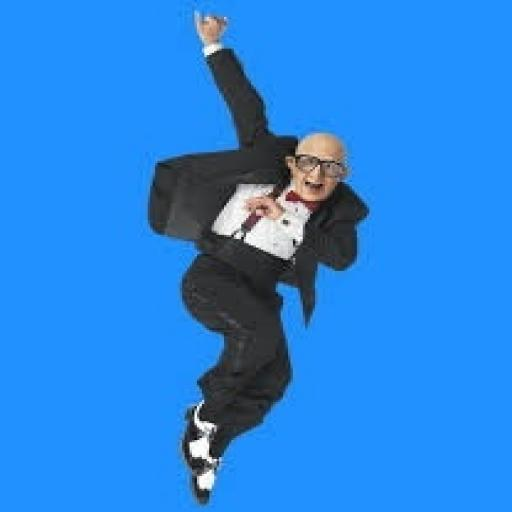dancing: (142, 6, 372, 508)
